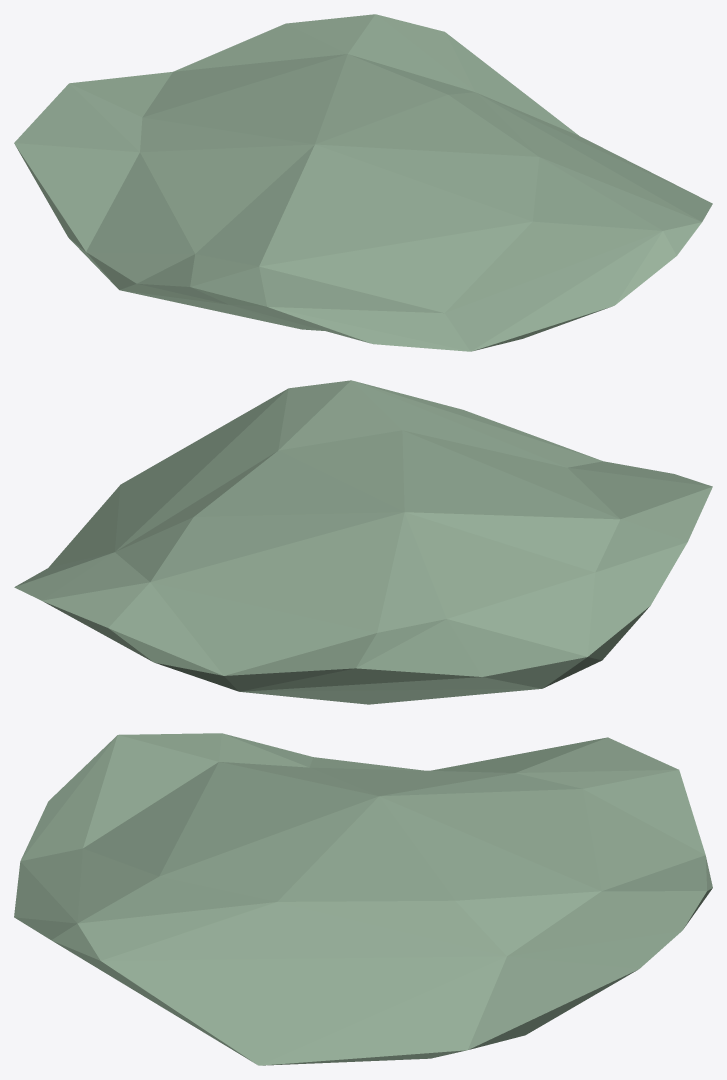
The model's file is Coral_platform_012.glb.
3 views of the same model, one above another, from view 1: azimuth 30°, elevation 25°; view 2: azimuth 150°, elevation 25°; view 3: azimuth 270°, elevation 25° (orthographic). The views are drawn at different scales.
Parts seen in each view (by area): view 1: Coral_platform_012; view 2: Coral_platform_012; view 3: Coral_platform_012.
Part boxes in pixels (bbox=[...]): Coral_platform_012: bbox=[14, 14, 712, 351]; Coral_platform_012: bbox=[14, 380, 712, 704]; Coral_platform_012: bbox=[14, 733, 712, 1065].
Bounding box in the file's own units: 1.83 × 0.5219 × 1.98.
1 material, 1 textured.
